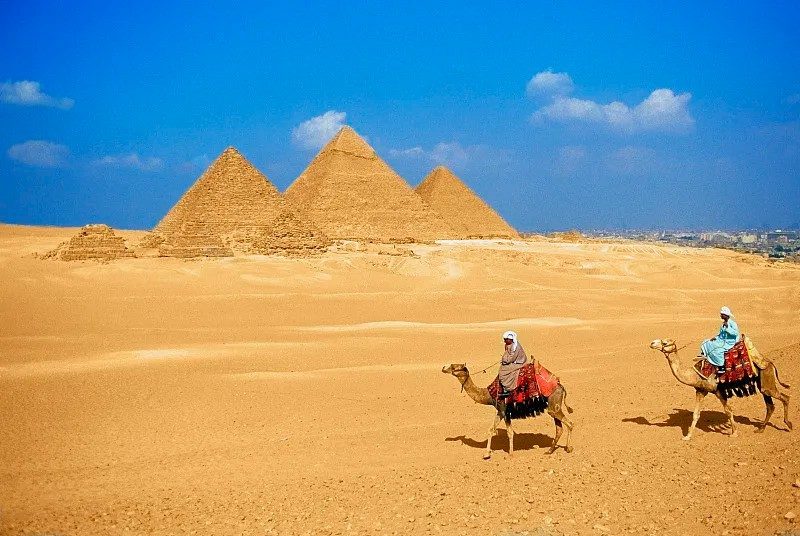Pyramid: (282, 124, 465, 239), (152, 146, 282, 240), (416, 167, 523, 239), (250, 212, 332, 256), (159, 219, 237, 257), (53, 225, 137, 260)
